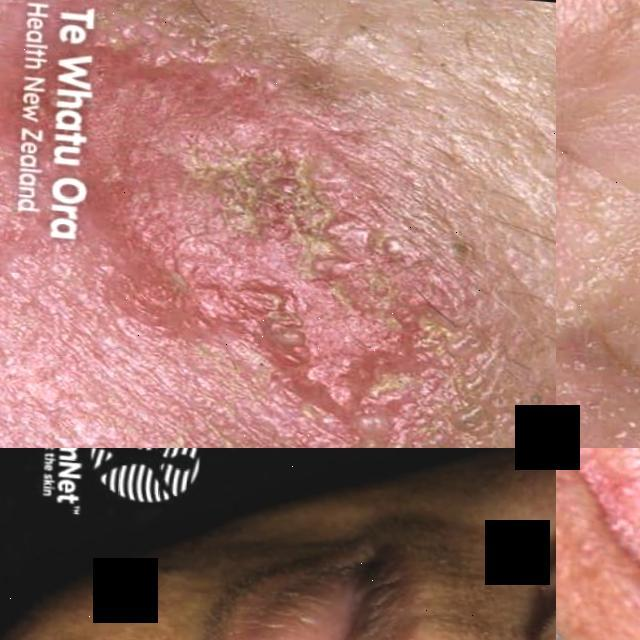lupus-detected: (0, 17, 539, 448), (556, 0, 640, 448), (556, 448, 640, 640)
